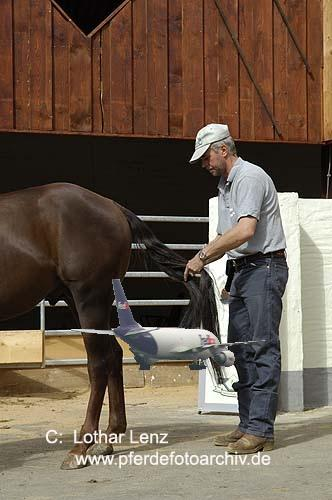tampered: (72, 280, 266, 370)
